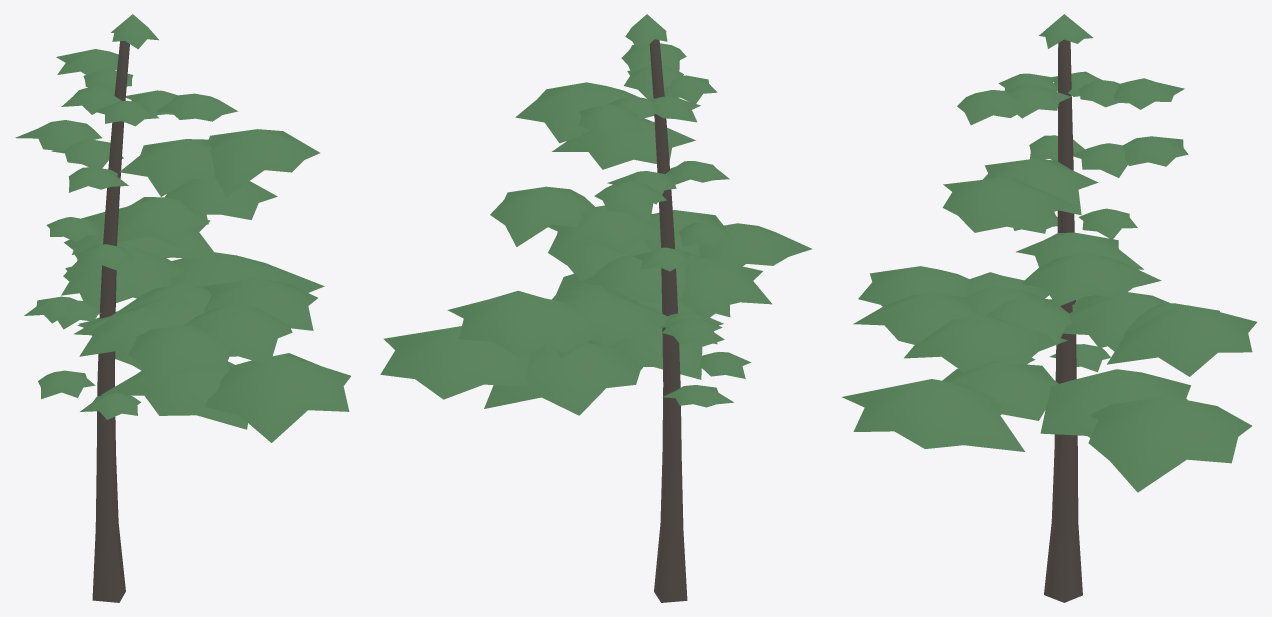
The model's file is Blender_WhitePine_1_Far.glb.
3 renders of one model, left to right at view 1: azimuth 30°, elevation 25°; view 2: azimuth 150°, elevation 25°; view 3: azimuth 270°, elevation 25°, orthographic. The views are drawn at different scales.
Parts seen in each view (by area): view 1: Blender_WhitePine_1_Far; view 2: Blender_WhitePine_1_Far; view 3: Blender_WhitePine_1_Far.
Boxes of the visible parts, left/top/right/bottom form: Blender_WhitePine_1_Far: left=15, top=14, right=350, bottom=602; Blender_WhitePine_1_Far: left=380, top=14, right=811, bottom=602; Blender_WhitePine_1_Far: left=842, top=14, right=1256, bottom=602.
Bounding box in the file's own units: 17.21 × 29.85 × 18.98.
